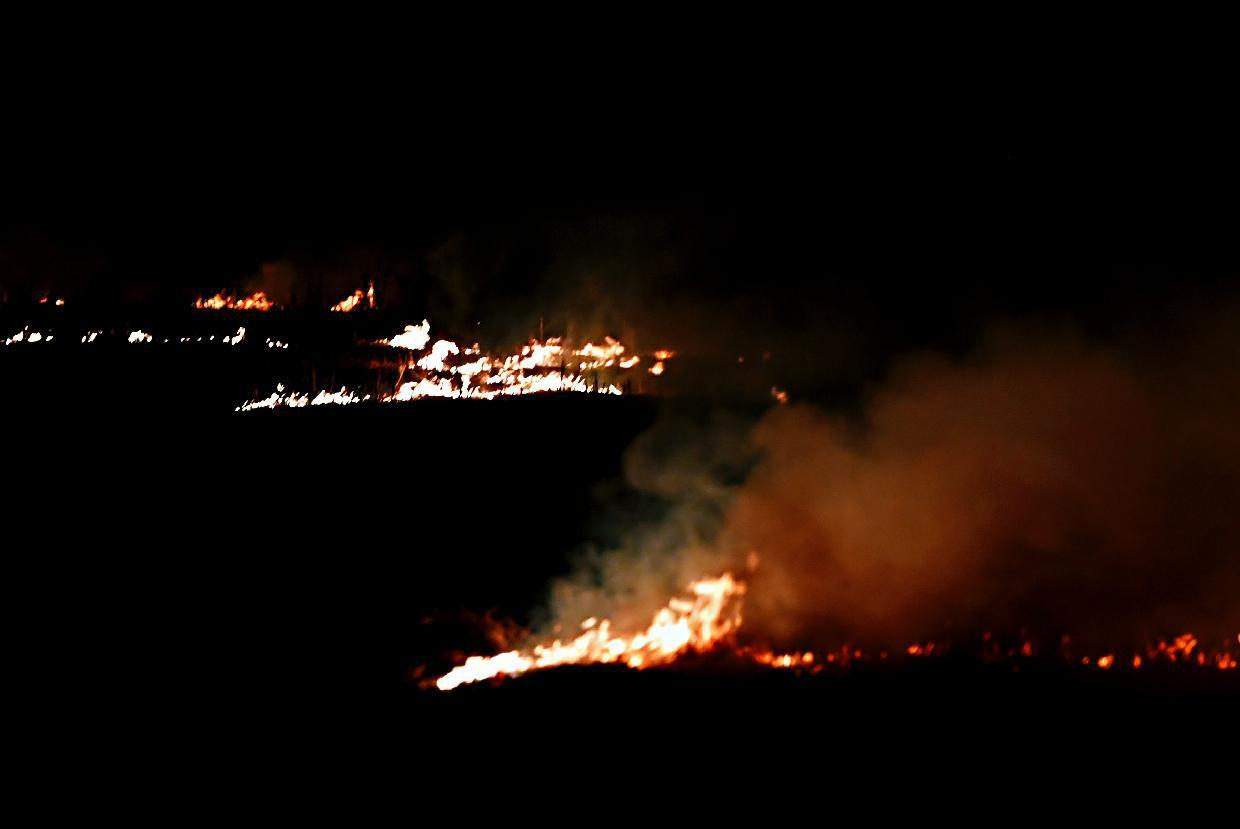fire: (430, 558, 1238, 679), (168, 288, 673, 425)
